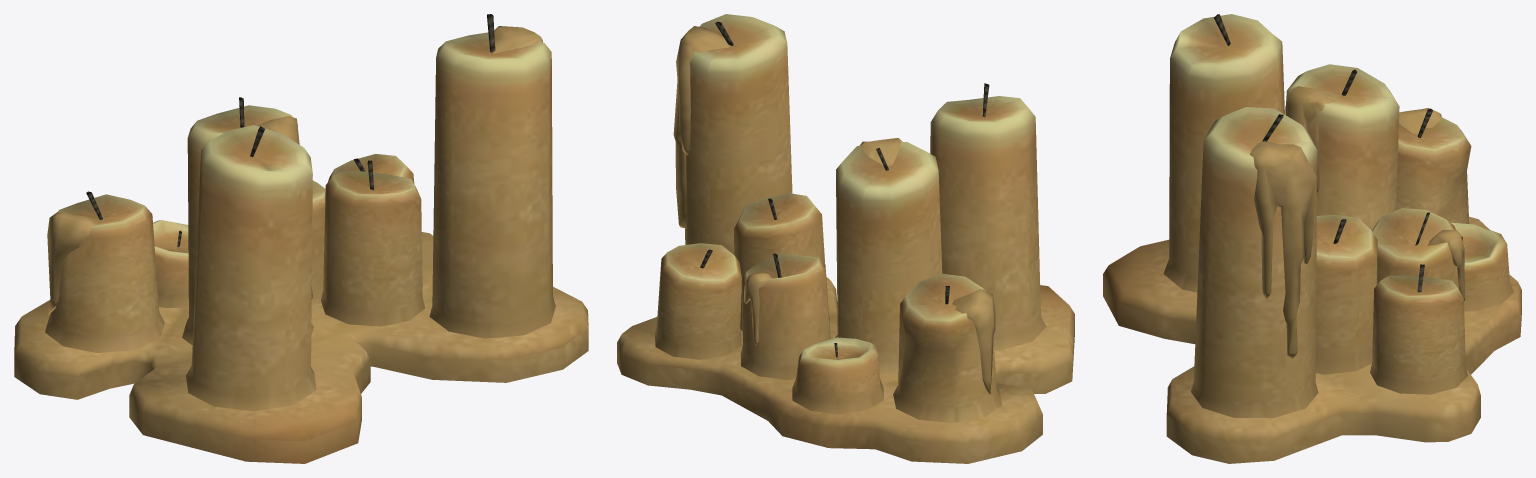
The model's file is GEN_PRO_Candle_Group_02A_LOD0-transformed.glb.
The picture shows the model from 3 angles, left to right: view 1: azimuth 30°, elevation 25°; view 2: azimuth 150°, elevation 25°; view 3: azimuth 270°, elevation 25°; orthographic projection. The views are drawn at different scales.
Parts seen in each view (by area): view 1: default; view 2: default; view 3: default.
Boxes of the visible parts, <box> form: default: <box>14,14,588,463</box>; default: <box>617,14,1074,463</box>; default: <box>1103,14,1521,463</box>.
Size of the model in its own units: 0.2215 by 0.1409 by 0.1704.
1 material, 1 textured.
